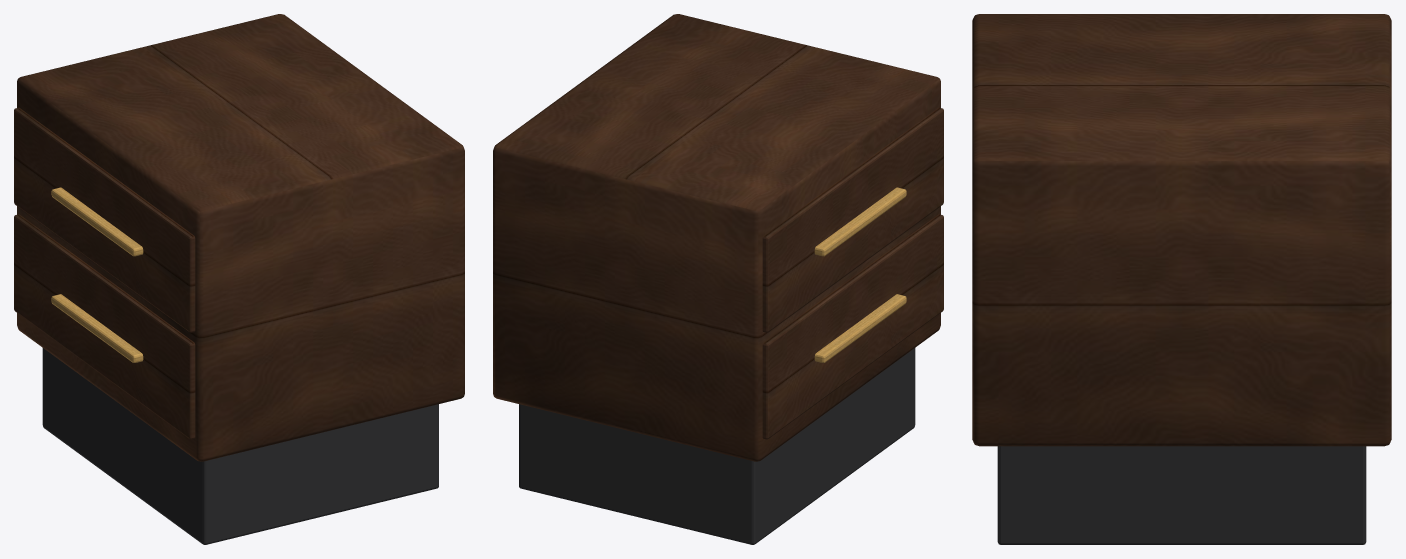
File: bed3_nightstand.glb
The picture shows the model from 3 angles, left to right: view 1: azimuth 30°, elevation 25°; view 2: azimuth 150°, elevation 25°; view 3: azimuth 270°, elevation 25°; orthographic projection. The views are drawn at different scales.
Parts seen in each view (by area): view 1: bed3_nightstand; view 2: bed3_nightstand; view 3: bed3_nightstand.
Boxes of the visible parts, bbox=[...] form: bed3_nightstand: bbox=[14, 14, 464, 544]; bed3_nightstand: bbox=[493, 14, 943, 544]; bed3_nightstand: bbox=[972, 14, 1391, 544].
Size of the model in its own units: 0.443 by 0.52 by 0.5.
Materials: 3 (2 with a texture image).
